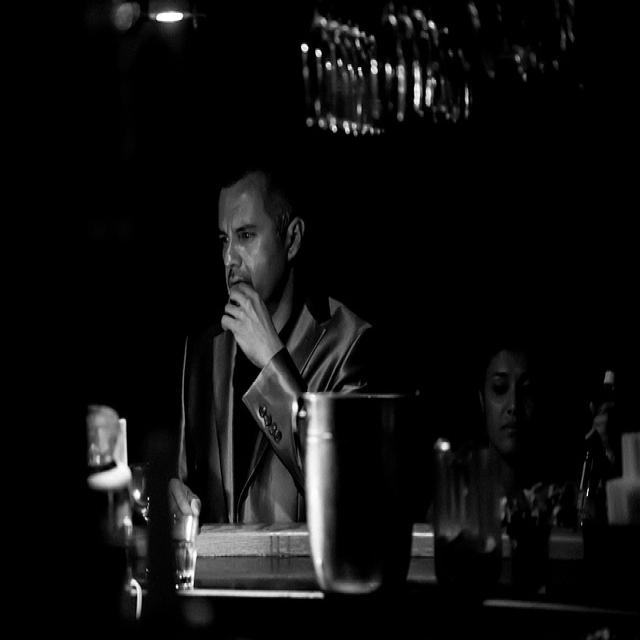Bottle: (580, 370, 622, 539)
Cup: (307, 376, 415, 619), (430, 437, 495, 610)
People: (210, 164, 348, 518), (468, 344, 560, 554)
